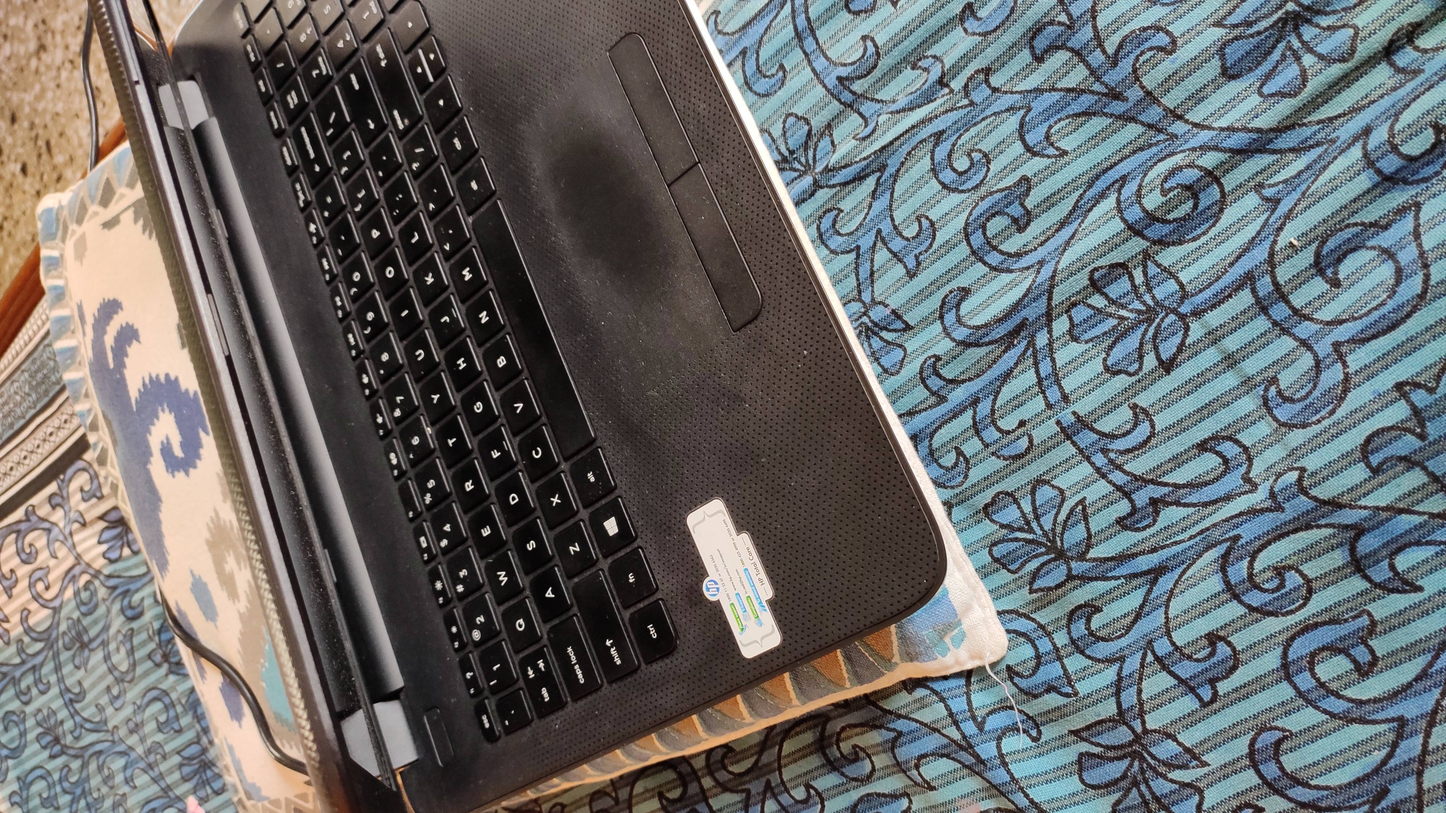Electronics: (72, 0, 971, 813)
